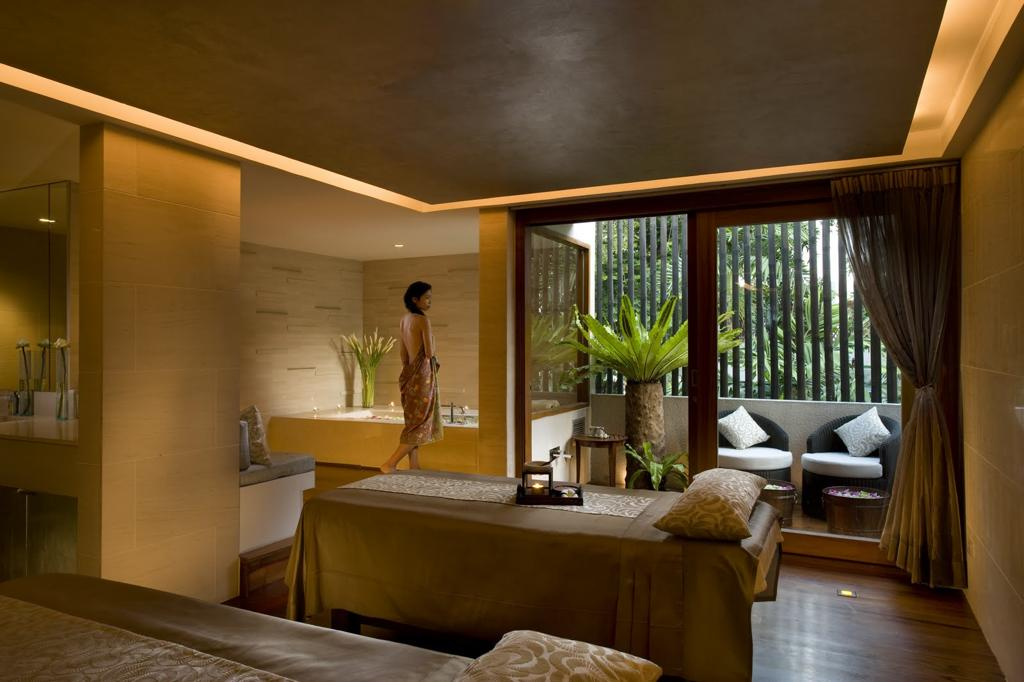face: (418, 289, 431, 309)
